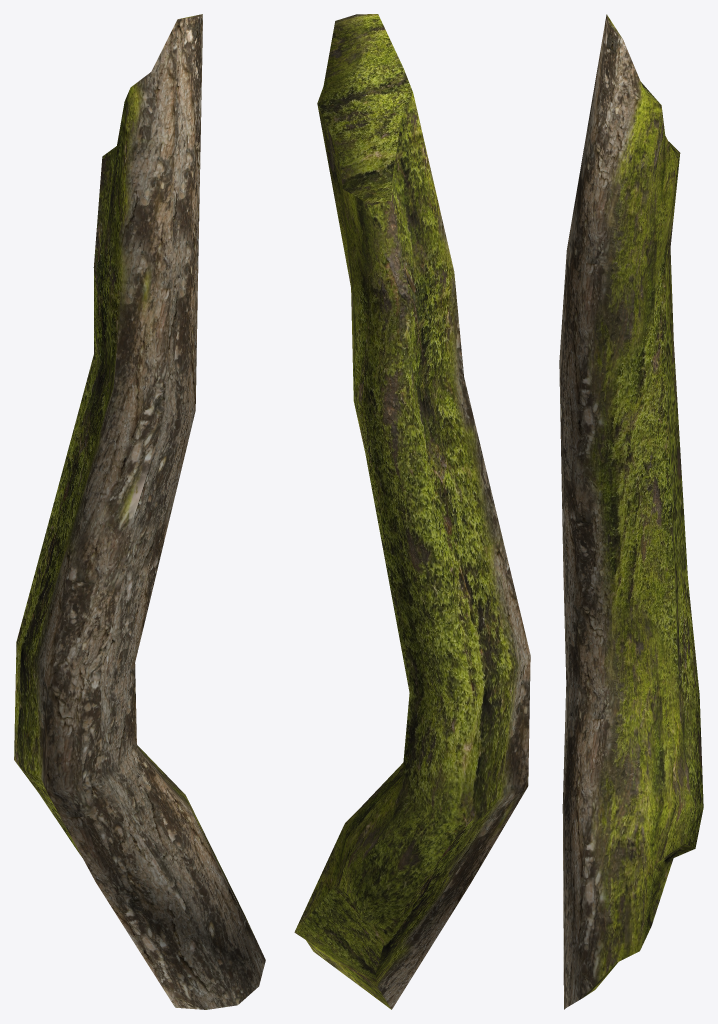
Rendered from forest ground log mossy 2.fbx.
The picture shows the model from 3 angles, left to right: view 1: azimuth 30°, elevation 25°; view 2: azimuth 150°, elevation 25°; view 3: azimuth 270°, elevation 25°; orthographic projection.
Parts seen in each view (by area): view 1: Cylinder_001; view 2: Cylinder_001; view 3: Cylinder_001.
Part boxes in pixels (box(x1,y1,x2,y2)): Cylinder_001: box(14, 14, 265, 1009); Cylinder_001: box(294, 14, 530, 1009); Cylinder_001: box(559, 14, 703, 1009).
Bounding box in the file's own units: 0.4413 × 1.92 × 0.2563.
